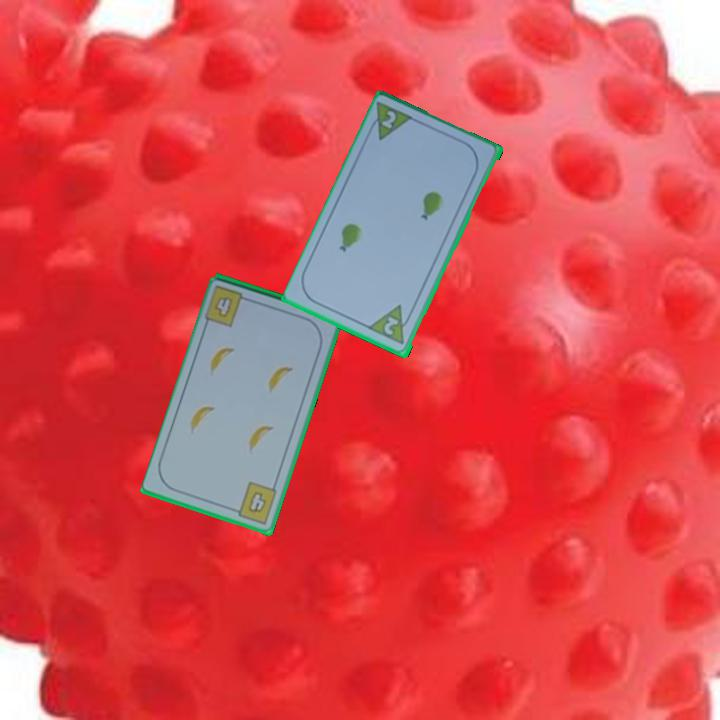2p: (380, 313, 402, 338), (378, 107, 399, 132)
4b: (228, 478, 280, 527), (213, 295, 233, 318)
